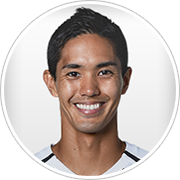face: (39, 51, 135, 125)
